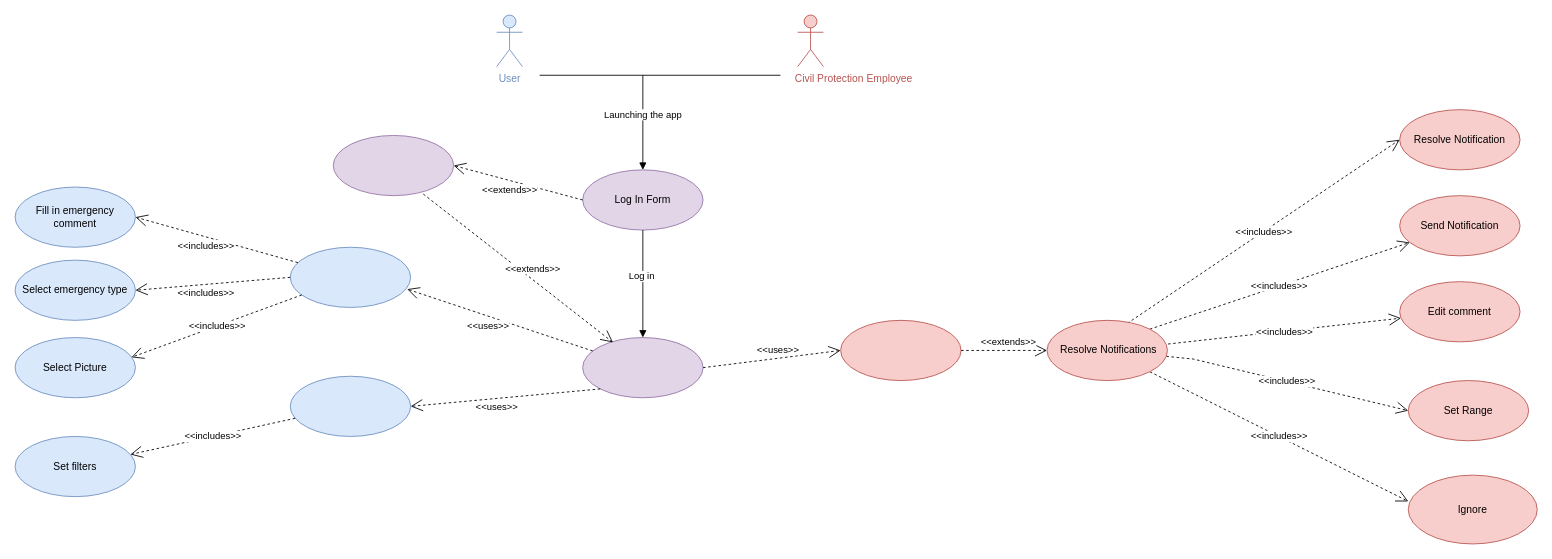
Image size: 1552x559. Some labels were removed from this diagram. Here are the shapes that lost their labels. From the top down, the centre of each, then its label:
At point 393,165: "Registration Form".
At point 350,276: "Submit Emergency".
At point 642,367: "Main Menu".
At point 900,350: "Active Notification View".
At point 350,405: "View Statistics".
